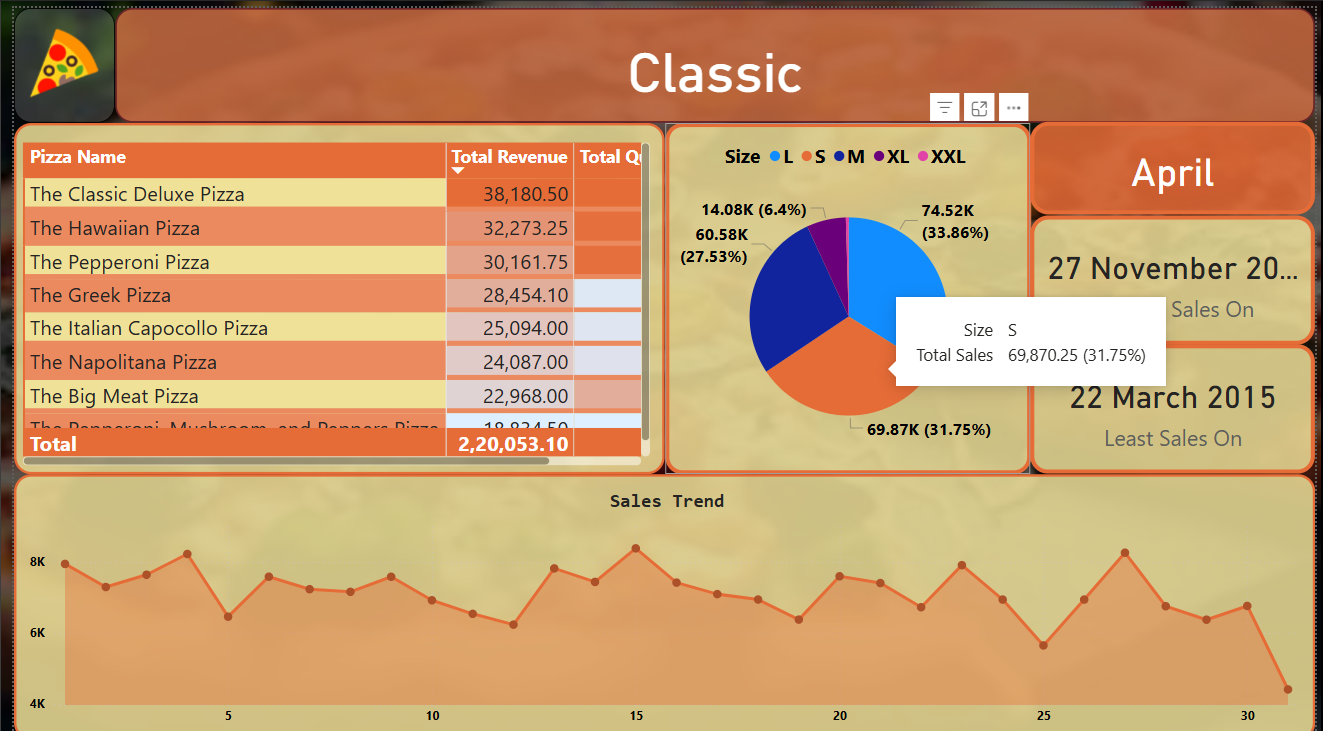

The page's visual inventory and layout, read from the dashboard file:
{"tool":"powerbi","page":{"name":"Category Details","canvas":[1280,720],"ordinal":1},"visuals":[{"type":"card","fields":{"Values":["Max(pizza_types.category)"]},"box":[99.6,0,1180.2,112.5],"z":0},{"type":"lineChart","title":"Sales Trend","fields":{"Y":["order_details.Total_Sales"],"Category":["orders.date.Variation.Date Hierarchy.Month","orders.date.Variation.Date Hierarchy.Day"]},"box":[0,459,1280,261.2],"z":1000},{"type":"actionButton","box":[0,0,99.6,112.5],"z":2000},{"type":"tableEx","fields":{"Values":["pizza_types.name","order_details.Total_Sales","Sum(order_details.quantity)"]},"box":[0,112.9,640,345.7],"z":3000},{"type":"pieChart","fields":{"Y":["order_details.Total_Sales"],"Category":["pizzas.size"]},"box":[640,112.9,360,345.7],"z":4000},{"type":"card","title":"Highest Sales","fields":{"Values":["Min(orders.date)"]},"box":[1000,203.8,280,127.5],"z":5000},{"type":"card","fields":{"Values":["Min(orders.date)"]},"box":[1000,331.2,280,127.5],"z":6000},{"type":"card","fields":{"Values":["Min(orders.date.Variation.Date Hierarchy.Month)"]},"box":[1000,112.5,280,91.2],"z":6001}]}

Visuals, with their boxes in screenshot pixels (x1, y1, x2, y2), scaled from the page's 1280x720 canvas onto the 1323x731 screenshot:
card - Max(pizza_types.category): box(103, 0, 1322, 114)
"Sales Trend" lineChart: box(0, 466, 1322, 730)
actionButton: box(0, 0, 103, 114)
tableEx - pizza_types.name x order_details.Total_Sales: box(0, 115, 662, 466)
pieChart - order_details.Total_Sales x pizzas.size: box(662, 115, 1034, 466)
"Highest Sales" card: box(1034, 207, 1322, 336)
card - Min(orders.date): box(1034, 336, 1322, 466)
card - Min(orders.date.Variation.Date Hierarchy.Month): box(1034, 114, 1322, 207)
